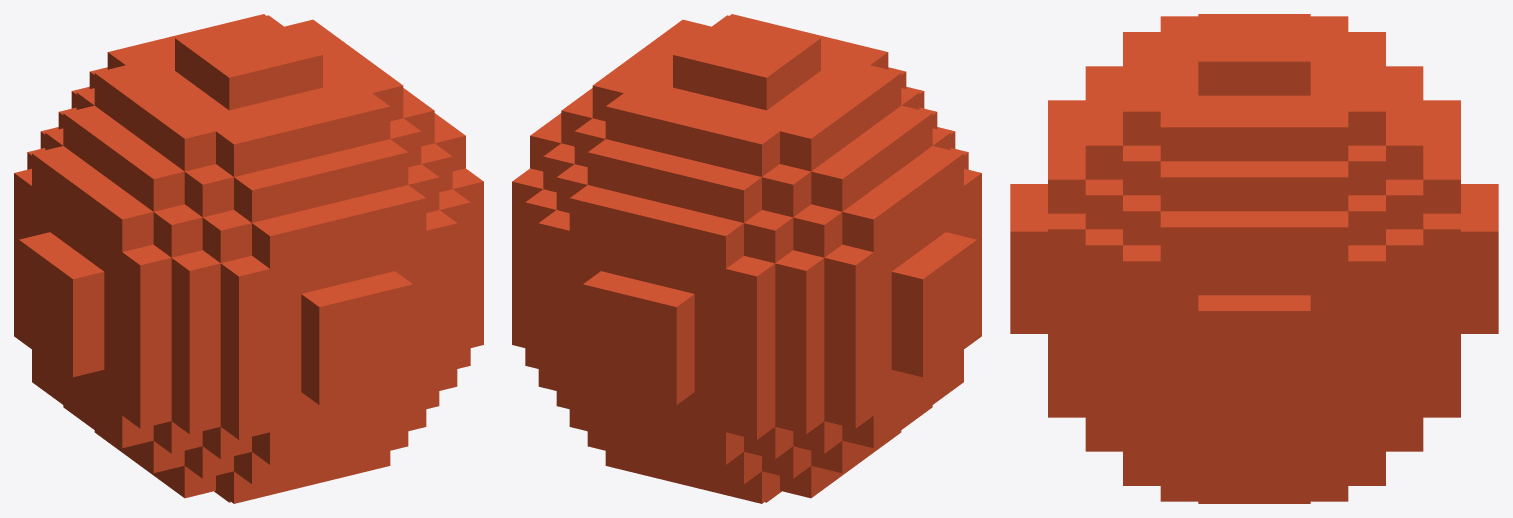
The model's file is Fireball.glb.
3 renders of one model, left to right at view 1: azimuth 30°, elevation 25°; view 2: azimuth 150°, elevation 25°; view 3: azimuth 270°, elevation 25°, orthographic. The views are drawn at different scales.
Visible parts, largest first — view 1: Sphere; view 2: Sphere; view 3: Sphere.
Boxes of the visible parts, left/top/right/bottom form: Sphere: left=14, top=14, right=483, bottom=503; Sphere: left=512, top=14, right=981, bottom=503; Sphere: left=1010, top=14, right=1498, bottom=503.
Size of the model in its own units: 2.09 by 2.09 by 2.09.
